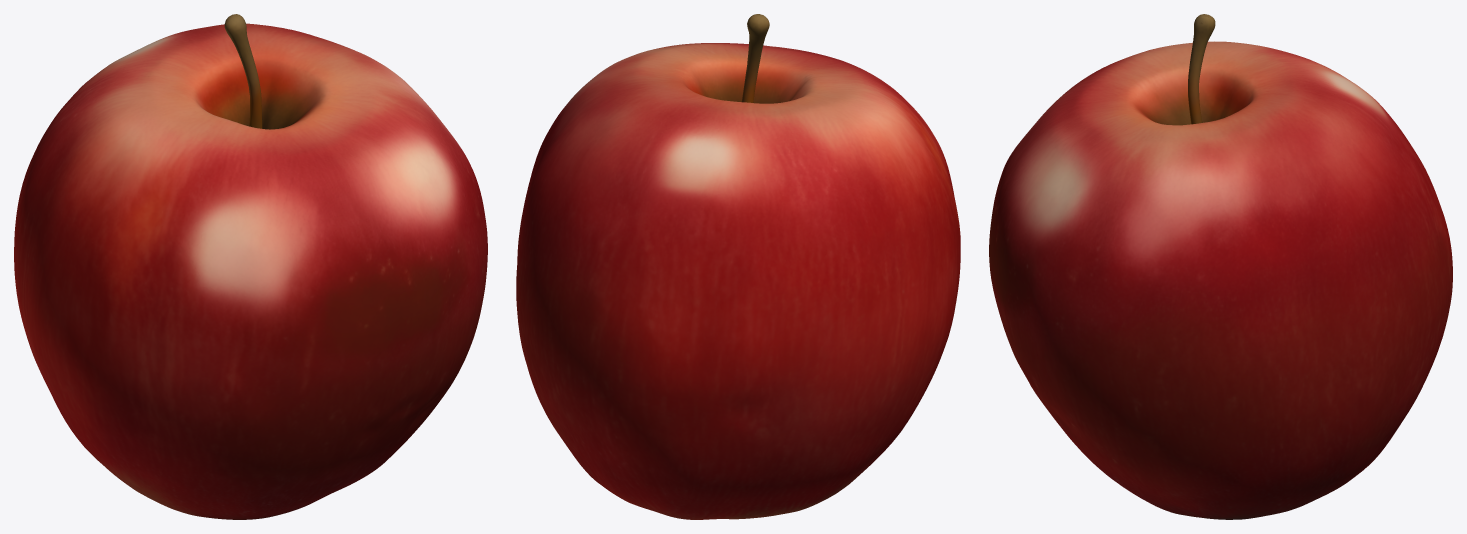
Rendered from parlour-apples.glb.
3 views of the same model, side by side, from view 1: azimuth 30°, elevation 25°; view 2: azimuth 150°, elevation 25°; view 3: azimuth 270°, elevation 25° (orthographic). The views are drawn at different scales.
Bounding box in the file's own units: 0.7765 × 0.8954 × 0.8131.
Materials: 1 (1 with a texture image).
